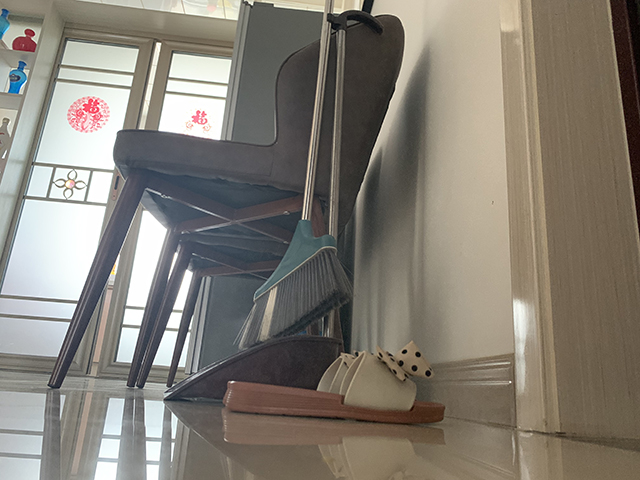slippers: (220, 340, 447, 426)
stool: (46, 13, 406, 391)
